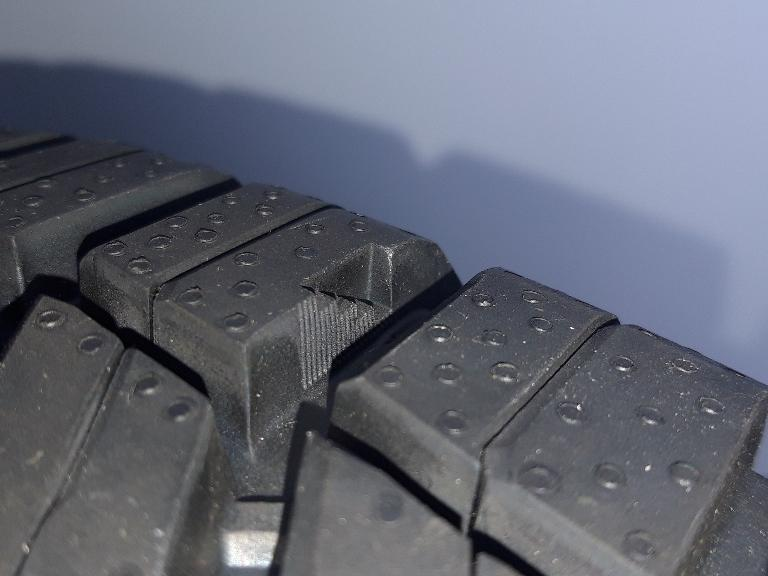temoin:100: (292, 240, 399, 393)
